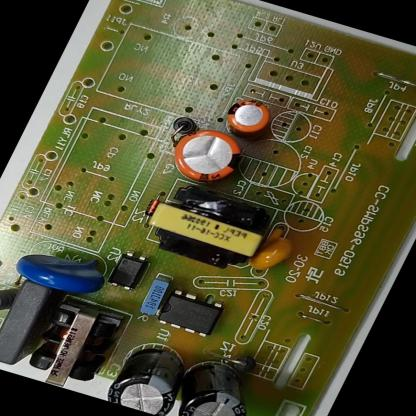Cap1: (160, 121, 256, 192)
Cap2: (219, 92, 281, 142)
Cap3: (176, 377, 259, 416)
Cap4: (87, 355, 194, 416)
MOSFET: (147, 284, 235, 344)
Mov: (8, 244, 114, 306)
Resistor: (0, 280, 18, 326)
Transformer: (128, 178, 283, 281), (10, 293, 132, 396)
